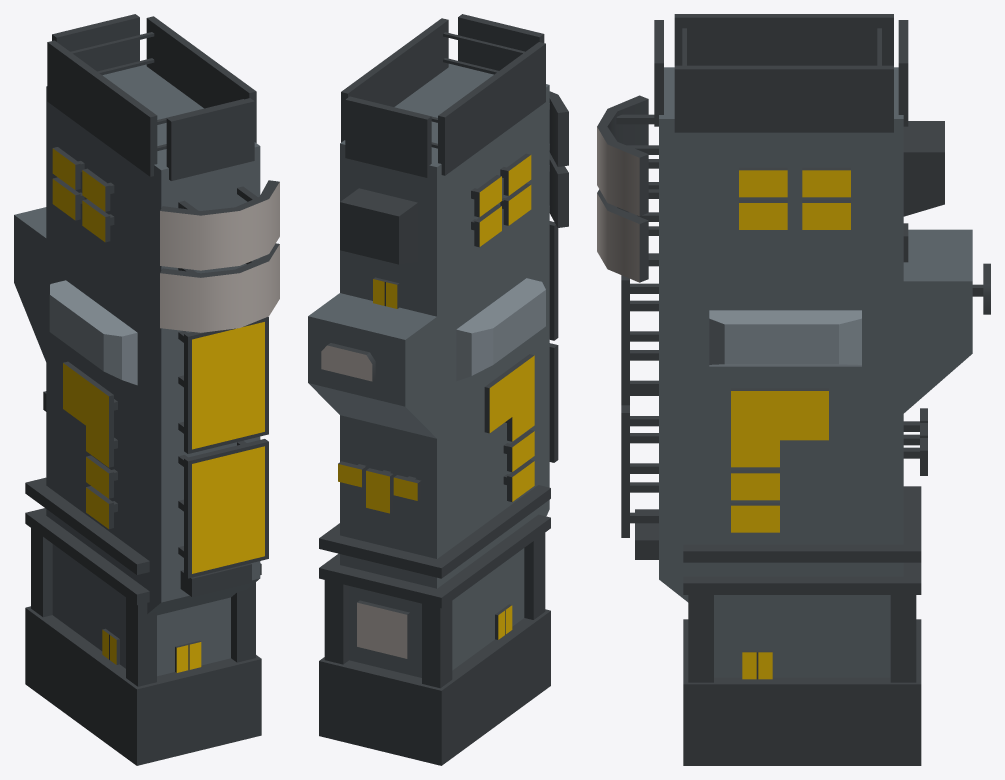
The model's file is SM_Bld_Background_Building_01.fbx.
3 views of the same model, side by side, from view 1: azimuth 30°, elevation 25°; view 2: azimuth 150°, elevation 25°; view 3: azimuth 270°, elevation 25° (orthographic). The views are drawn at different scales.
Visible parts, largest first — view 1: SM_Bld_Background_Building_01; view 2: SM_Bld_Background_Building_01; view 3: SM_Bld_Background_Building_01.
Boxes of the visible parts, x1=… form: SM_Bld_Background_Building_01: x1=14, y1=14, x2=279, y2=765; SM_Bld_Background_Building_01: x1=308, y1=14, x2=568, y2=765; SM_Bld_Background_Building_01: x1=597, y1=14, x2=990, y2=765.
Size of the model in its own units: 1535 by 6226 by 3212.
